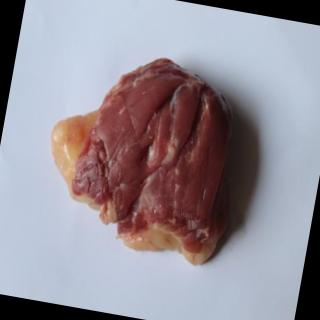Daging Sapi: (35, 42, 248, 269)
